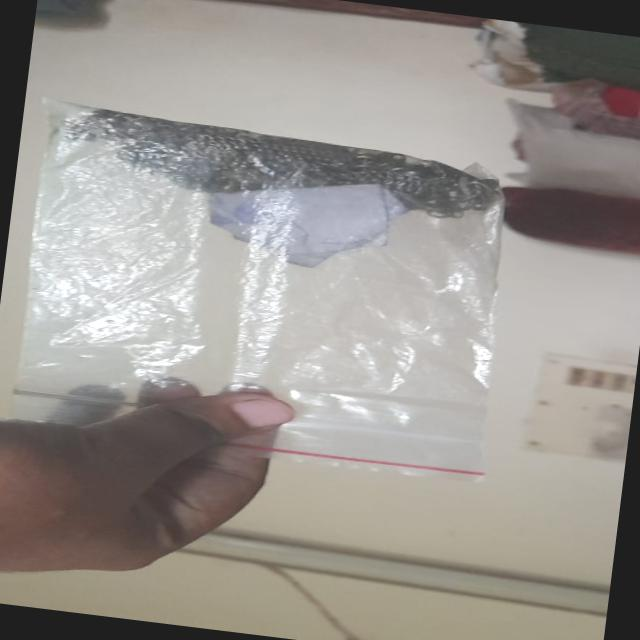Plastic - Recyclable: (4, 100, 525, 487)
